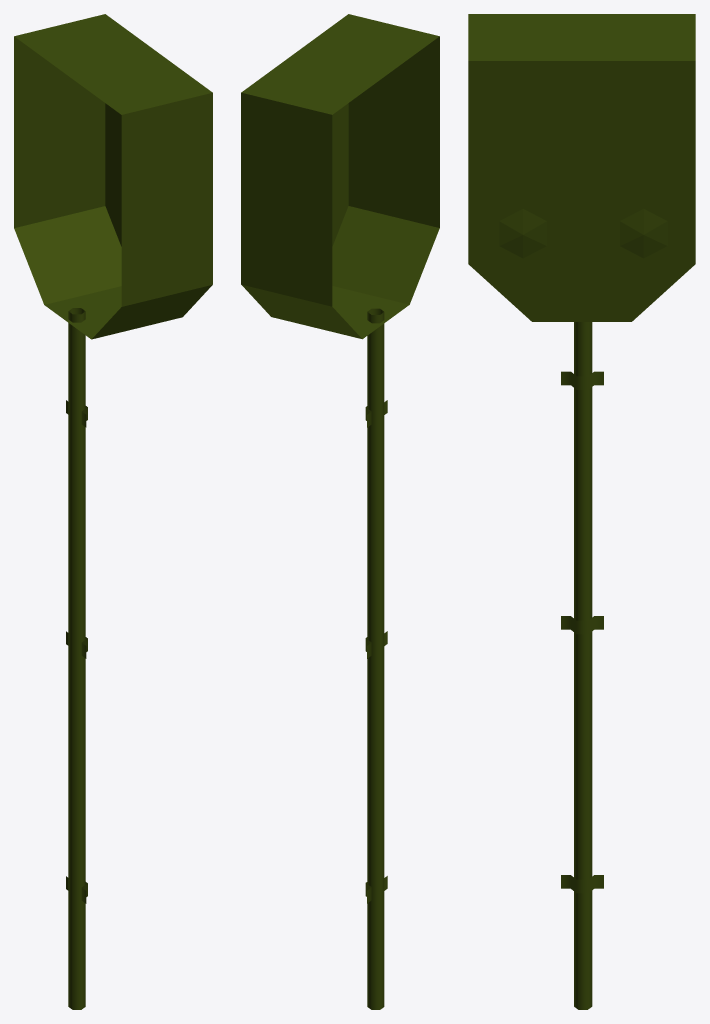
Rendered from Electric Box7_M.fbx.
3 views of the same model, side by side, from view 1: azimuth 30°, elevation 25°; view 2: azimuth 150°, elevation 25°; view 3: azimuth 270°, elevation 25° (orthographic). The views are drawn at different scales.
Parts seen in each view (by area): view 1: Electric Box7; view 2: Electric Box7; view 3: Electric Box7.
Boxes of the visible parts, x1=… form: Electric Box7: x1=14, y1=14, x2=212, y2=1009; Electric Box7: x1=241, y1=14, x2=439, y2=1009; Electric Box7: x1=468, y1=14, x2=695, y2=1009.
Bounding box in the file's own units: 0.0491 × 0.4641 × 0.0968.
